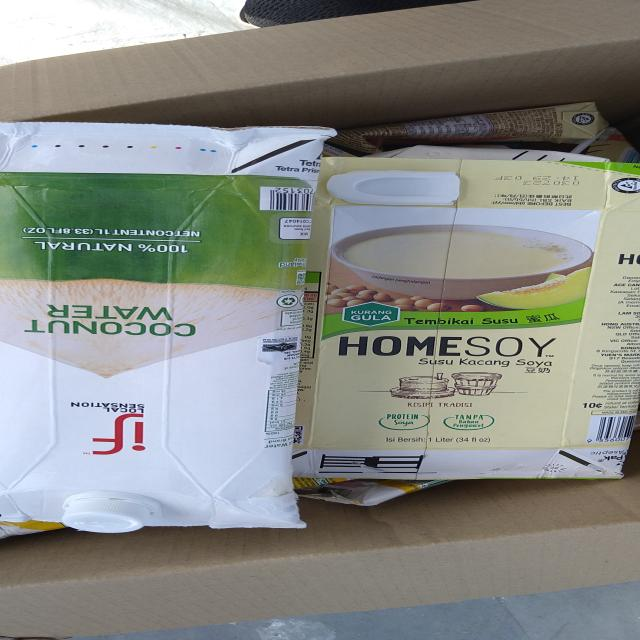cardboard: (0, 114, 306, 528), (322, 154, 640, 486)
